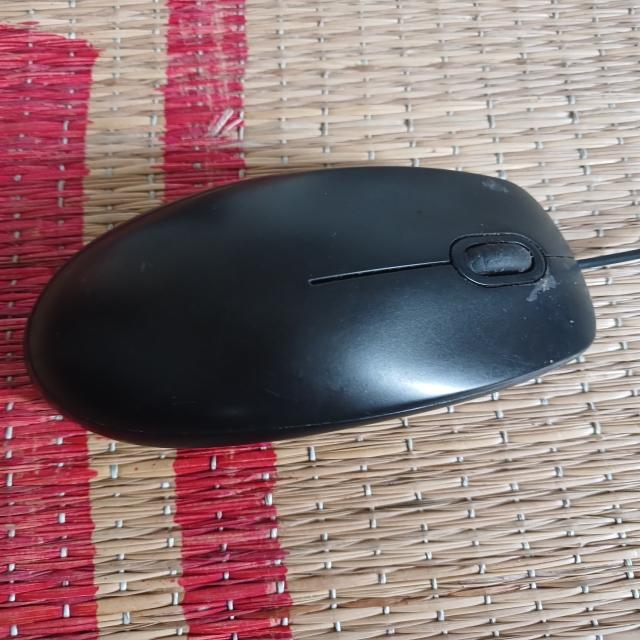mouse: (17, 157, 610, 455)
